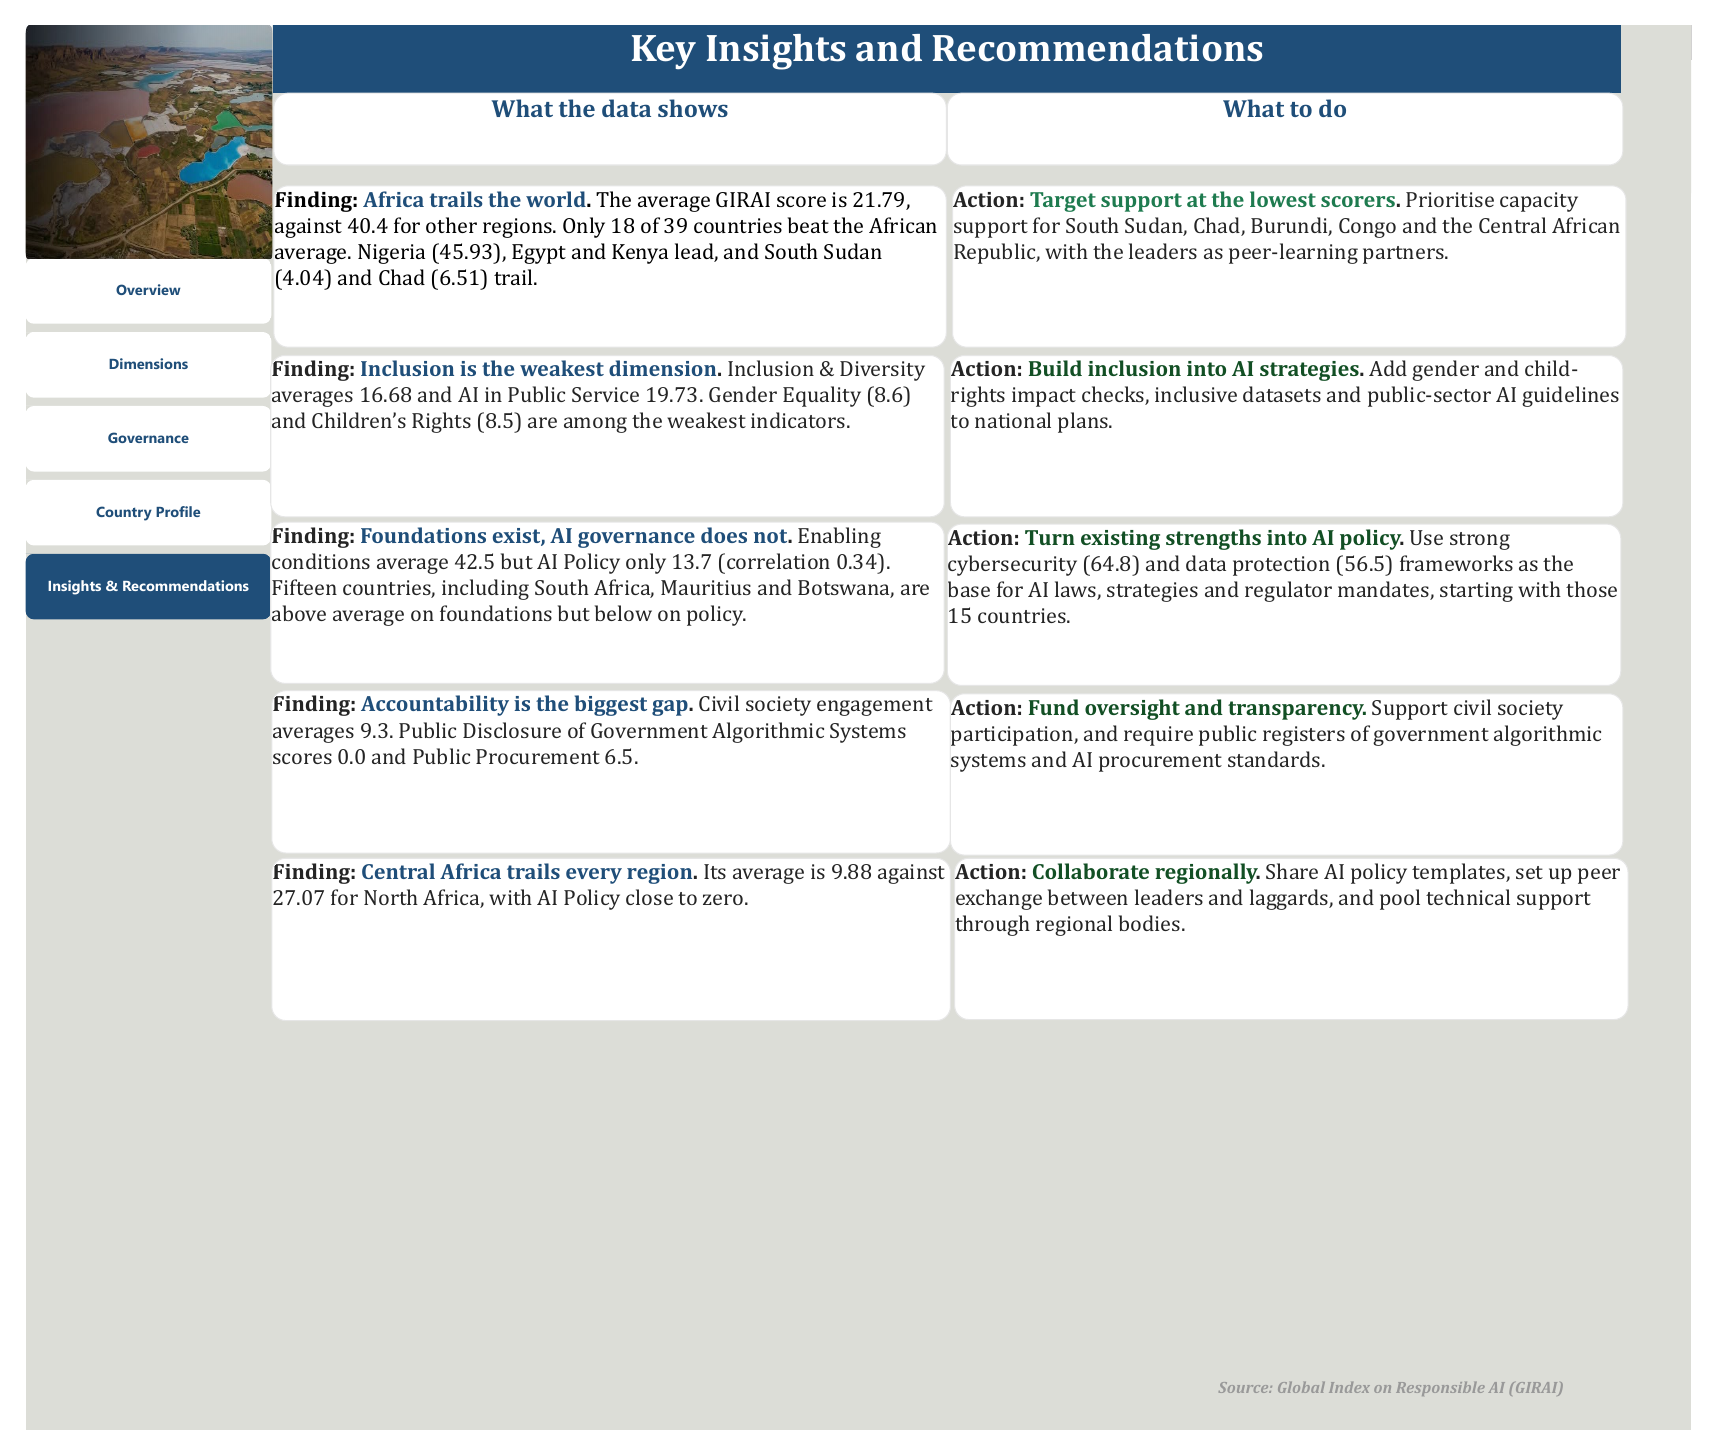

The dashboard page shown, as its layout file describes it:
{"tool":"powerbi","page":{"name":"Insights & Recommendations","canvas":[1600,1350],"ordinal":5},"visuals":[{"type":"textbox","box":[237.5,0,1295.8,64.6],"z":0},{"type":"textbox","box":[1145.7,1300,388.6,48.6],"z":1000},{"type":"pageNavigator","box":[0,223.7,235.6,350.8],"z":2000},{"type":"image","box":[0,0,237.3,223.7],"z":3000},{"type":"textbox","box":[237.5,64.6,647.9,70.8],"z":4000},{"type":"textbox","box":[885.4,64.6,650,70.8],"z":5000},{"type":"textbox","box":[237.5,154.2,647.9,156.2],"z":5001},{"type":"textbox","box":[889.6,154.2,647.9,156.2],"z":5002},{"type":"textbox","box":[235.4,316.7,647.9,156.2],"z":5003},{"type":"textbox","box":[887.5,316.7,647.9,156.2],"z":5004},{"type":"textbox","box":[235.4,477.1,647.9,156.2],"z":5005},{"type":"textbox","box":[885.4,479.2,647.9,156.2],"z":5006},{"type":"textbox","box":[235.7,639.3,653.6,157.1],"z":5007},{"type":"textbox","box":[887.5,641.7,647.9,156.2],"z":5008},{"type":"textbox","box":[235.7,800,653.6,157.1],"z":5009},{"type":"textbox","box":[891.7,800,647.9,156.2],"z":5010}]}

Visuals, with their boxes in screenshot pixels (x1, y1, x2, y2), scaled from the page's 1600x1350 canvas onto the 1717x1456 screenshot:
textbox: detection(255, 0, 1645, 70)
textbox: detection(1229, 1402, 1646, 1454)
pageNavigator: detection(0, 241, 253, 620)
image: detection(0, 0, 255, 241)
textbox: detection(255, 70, 950, 146)
textbox: detection(950, 70, 1648, 146)
textbox: detection(255, 166, 950, 335)
textbox: detection(955, 166, 1650, 335)
textbox: detection(253, 342, 948, 510)
textbox: detection(952, 342, 1648, 510)
textbox: detection(253, 515, 948, 683)
textbox: detection(950, 517, 1645, 685)
textbox: detection(253, 689, 954, 859)
textbox: detection(952, 692, 1648, 861)
textbox: detection(253, 863, 954, 1032)
textbox: detection(957, 863, 1652, 1031)
